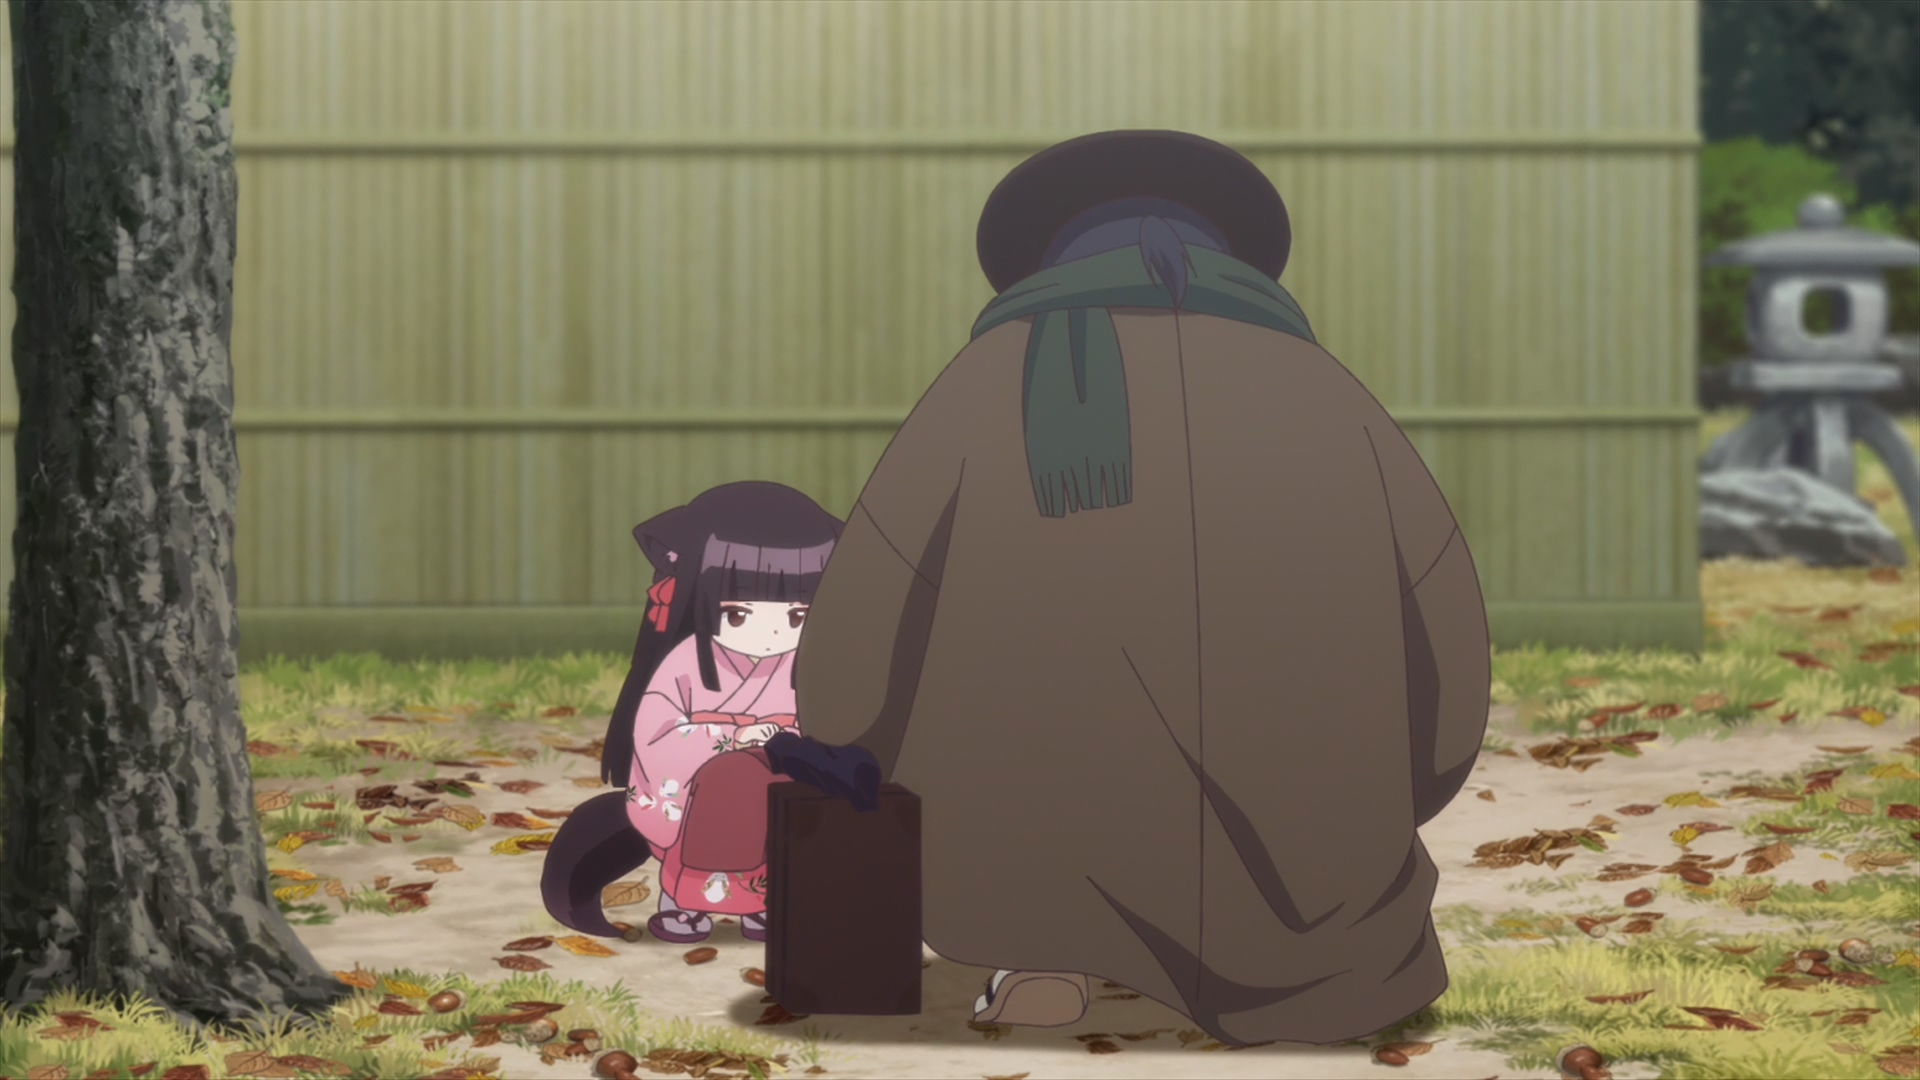其他: (765, 131, 1490, 1044)
樱: (539, 480, 843, 943)
